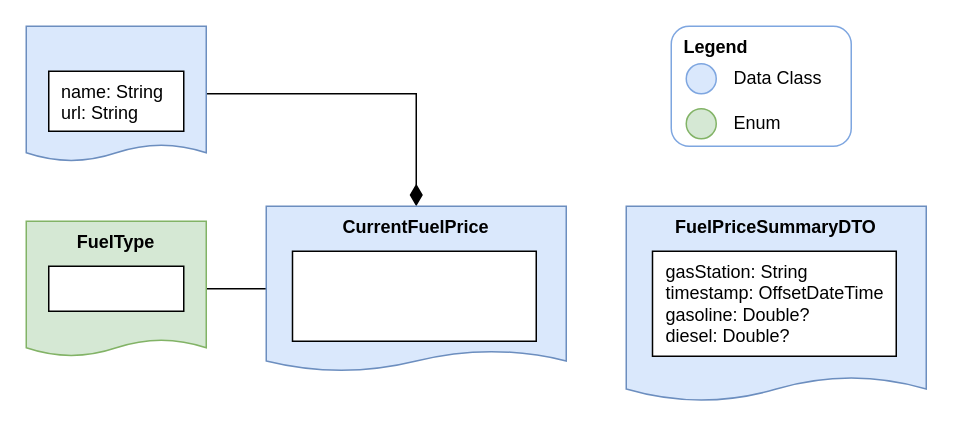
Image size: 953x428. Some labels were removed from this diagram. Each missing label, with the box of its shape:
fuelType: FuelType price: Double timestamp: OffsetDateTime: (291, 250, 536, 341)
GasStation: (25, 25, 206, 161)
text: String: (47, 265, 184, 311)
